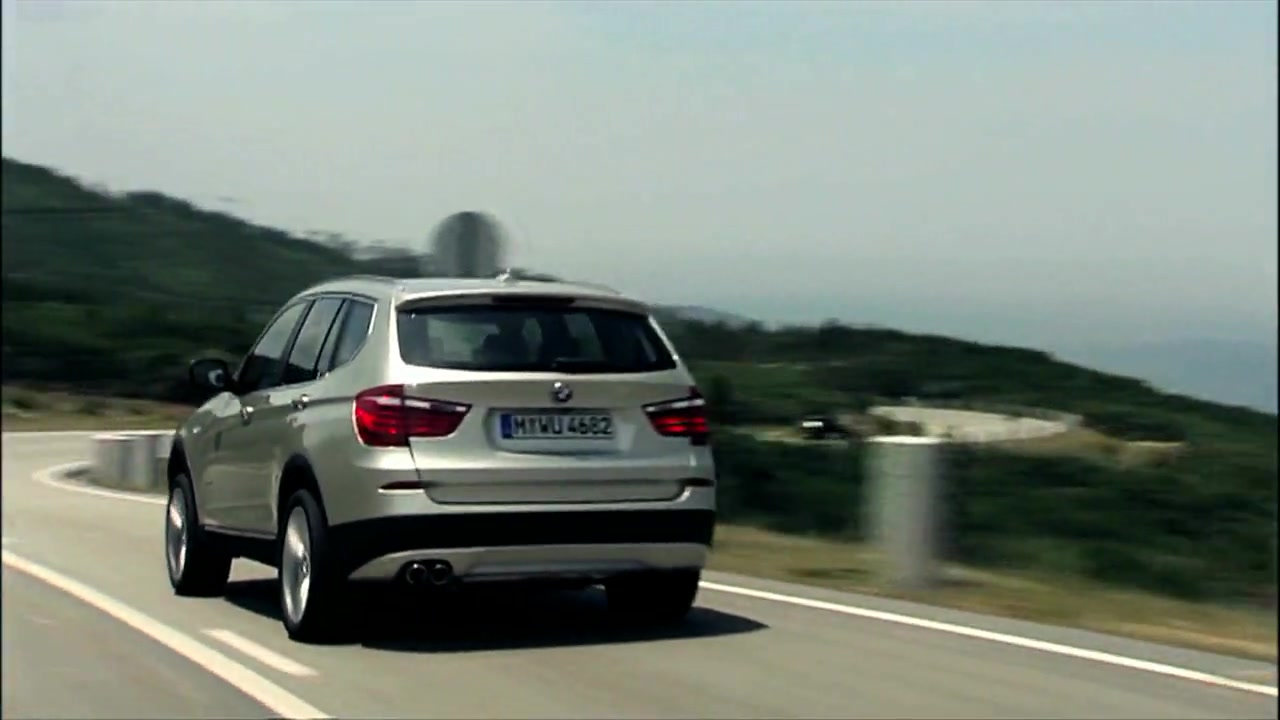car: (161, 269, 725, 651)
